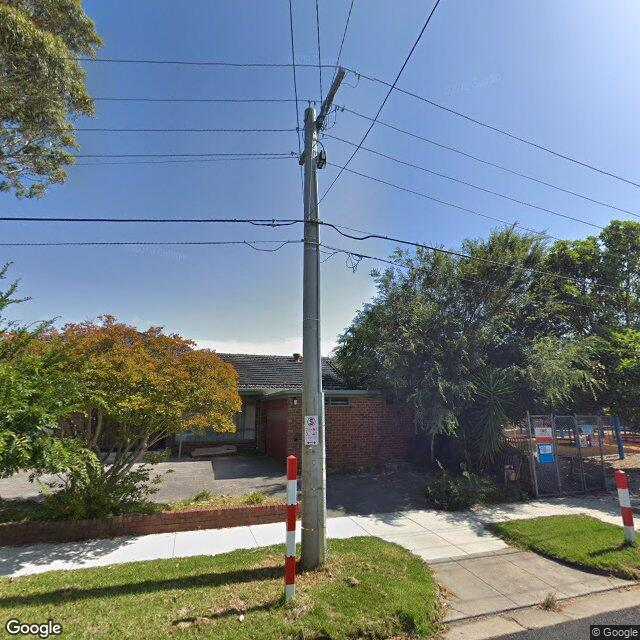crossarm: (300, 67, 346, 165)
timber-pole: (300, 108, 326, 567)
